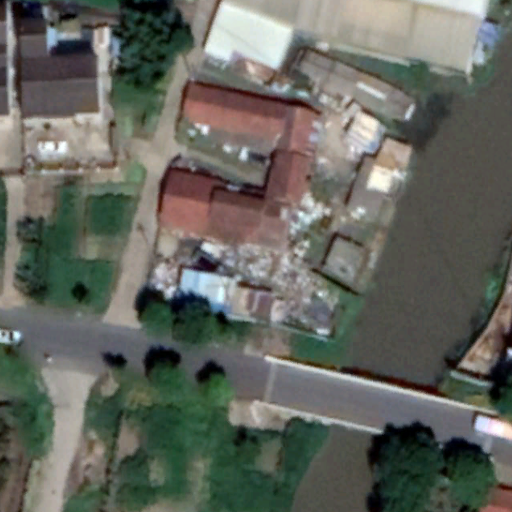msw: (195, 237, 334, 300)
